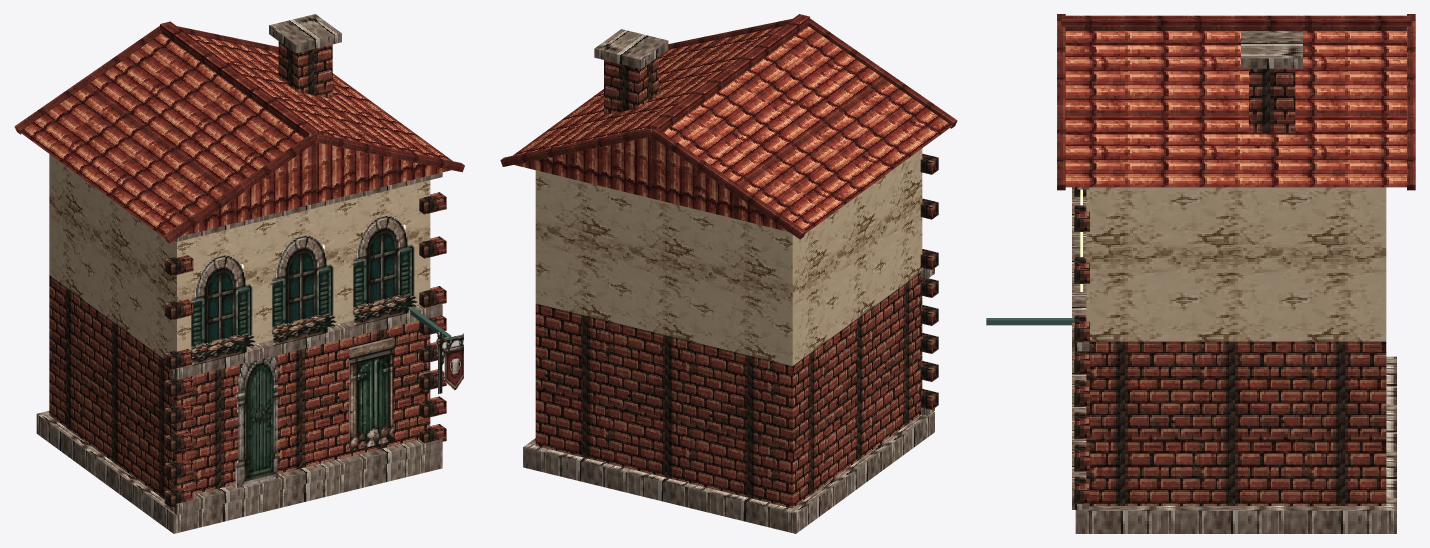
File: townhouse.glb
The picture shows the model from 3 angles, left to right: view 1: azimuth 30°, elevation 25°; view 2: azimuth 150°, elevation 25°; view 3: azimuth 270°, elevation 25°; orthographic projection. The views are drawn at different scales.
Visible parts, largest first — view 1: townhouse_p9_roof, townhouse_p9_brick, townhouse_p9_plaster, townhouse_p9_stone, townhouse_p9_window_arch, townhouse_p9_door_green, townhouse_p9_window_shutter, townhouse_p9_flowerbox, townhouse_p9_sign_banner; view 2: townhouse_p9_brick, townhouse_p9_roof, townhouse_p9_plaster, townhouse_p9_stone; view 3: townhouse_p9_roof, townhouse_p9_brick, townhouse_p9_plaster, townhouse_p9_stone, townhouse_p9_iron.
Boxes of the visible parts, x1=… form: townhouse_p9_roof: x1=14, y1=21, x2=464, y2=243; townhouse_p9_brick: x1=49, y1=41, x2=446, y2=507; townhouse_p9_plaster: x1=49, y1=154, x2=430, y2=359; townhouse_p9_stone: x1=36, y1=14, x2=442, y2=533; townhouse_p9_window_arch: x1=191, y1=215, x2=414, y2=352; townhouse_p9_door_green: x1=235, y1=356, x2=277, y2=488; townhouse_p9_window_shutter: x1=349, y1=337, x2=393, y2=451; townhouse_p9_flowerbox: x1=192, y1=294, x2=417, y2=365; townhouse_p9_sign_banner: x1=436, y1=331, x2=463, y2=393; townhouse_p9_brick: x1=535, y1=57, x2=938, y2=508; townhouse_p9_roof: x1=500, y1=14, x2=957, y2=239; townhouse_p9_plaster: x1=535, y1=148, x2=922, y2=365; townhouse_p9_stone: x1=523, y1=29, x2=934, y2=533; townhouse_p9_roof: x1=1057, y1=14, x2=1415, y2=190; townhouse_p9_brick: x1=1074, y1=68, x2=1386, y2=505; townhouse_p9_plaster: x1=1086, y1=187, x2=1386, y2=341; townhouse_p9_stone: x1=1072, y1=31, x2=1396, y2=533; townhouse_p9_iron: x1=986, y1=318, x2=1074, y2=325.
Size of the model in its own units: 5.65 by 7.08 by 6.01.
Materials: 11 (9 with a texture image).
